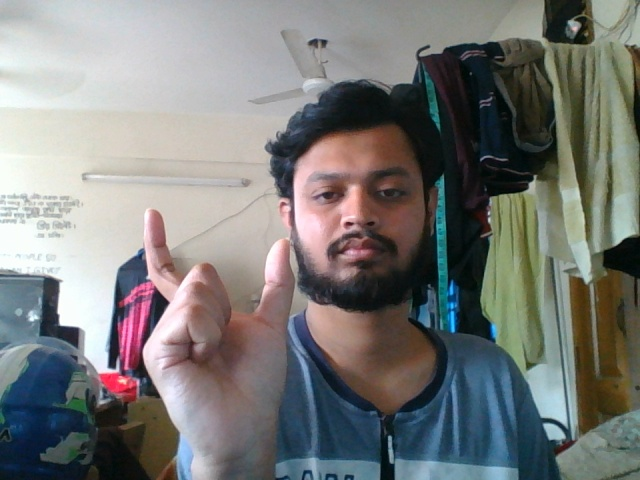chandrobindu: (134, 203, 303, 480)
